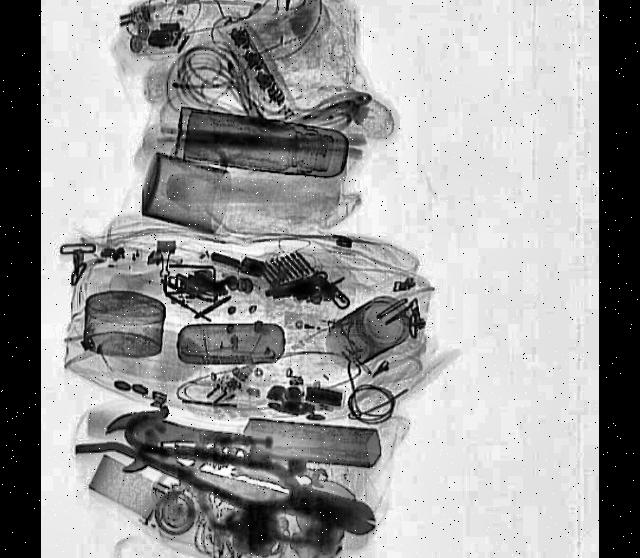Pliers: (100, 400, 278, 526), (302, 483, 378, 537)
